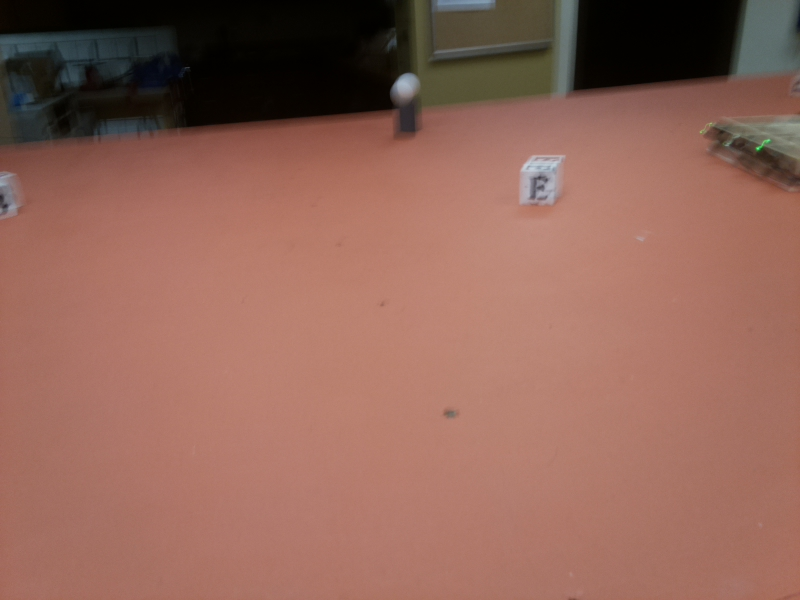blockB: (2, 173, 25, 221)
blockE: (519, 153, 565, 210)
obstacle: (380, 71, 428, 139)
side: (706, 117, 800, 197)
